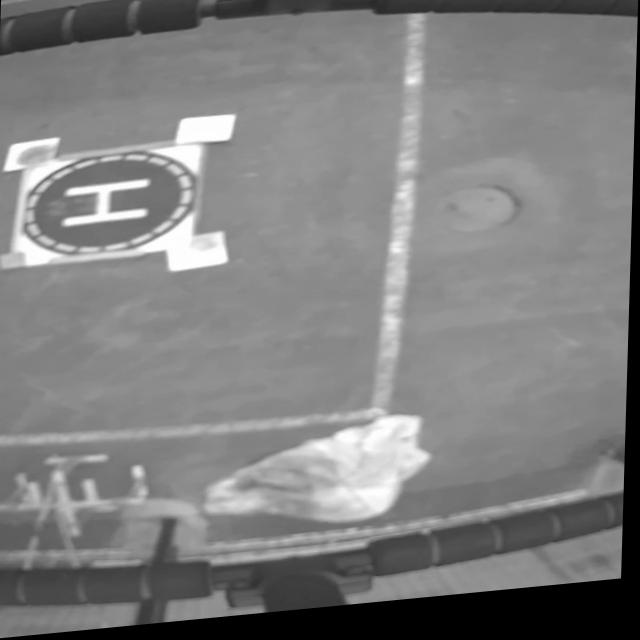Helipad: (62, 182, 150, 229)
